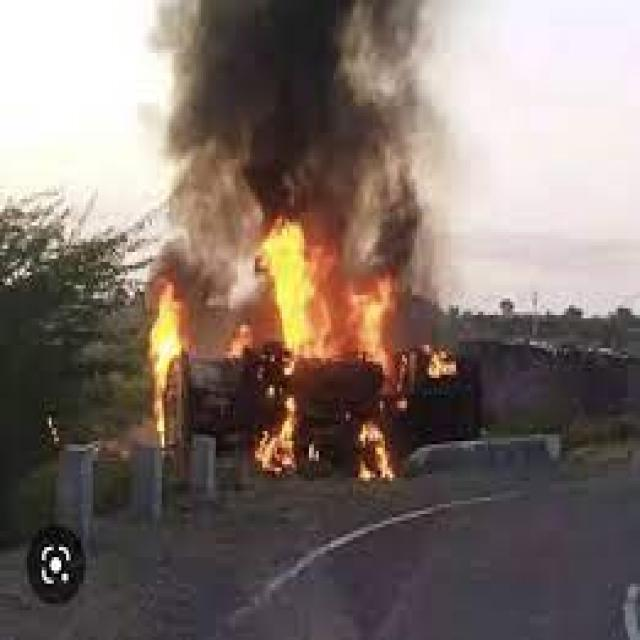fire: (250, 219, 316, 358), (144, 288, 188, 458), (346, 272, 395, 378), (255, 394, 297, 478), (353, 418, 392, 481)
smoke: (142, 3, 454, 298)
